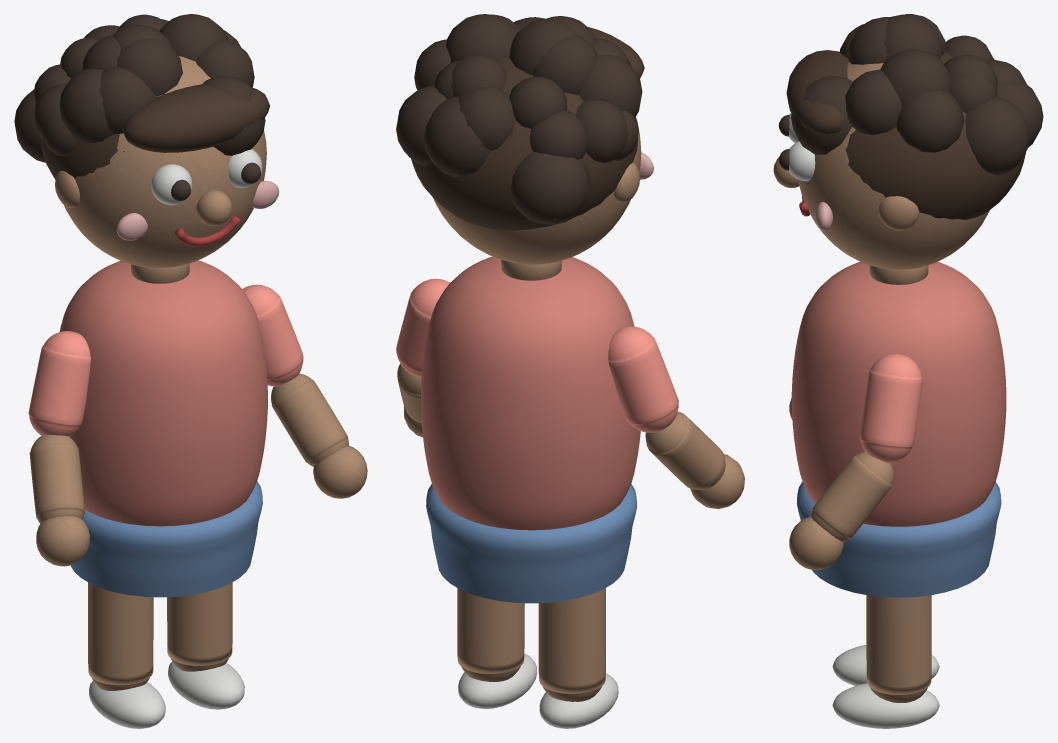
The model's file is kids.glb.
3 views of the same model, side by side, from view 1: azimuth 30°, elevation 25°; view 2: azimuth 150°, elevation 25°; view 3: azimuth 270°, elevation 25° (orthographic). The views are drawn at different scales.
Visible parts, largest first — view 1: torso, head_mesh, head_mesh.001, legL_mesh, legR_mesh, forearmR_mesh, forearmL_mesh, upperarmL, upperarmR, legR_mesh.001; view 2: torso, head_mesh, head_mesh.001, legL_mesh, legR_mesh, upperarmL, forearmL_mesh, upperarmR, forearmR_mesh; view 3: torso, head_mesh, head_mesh.001, legR_mesh, forearmR_mesh, upperarmR, legL_mesh, legR_mesh.001.
Boxes of the visible parts, x1=… form: torso: x1=59, y1=260, x2=267, y2=597; head_mesh: x1=14, y1=14, x2=279, y2=267; head_mesh.001: x1=40, y1=56, x2=276, y2=267; legL_mesh: x1=88, y1=582, x2=165, y2=728; legR_mesh: x1=167, y1=582, x2=244, y2=709; forearmR_mesh: x1=271, y1=373, x2=367, y2=498; forearmL_mesh: x1=29, y1=435, x2=89, y2=566; upperarmL: x1=28, y1=331, x2=90, y2=436; upperarmR: x1=242, y1=284, x2=303, y2=386; legR_mesh.001: x1=168, y1=663, x2=243, y2=708; torso: x1=421, y1=256, x2=640, y2=603; head_mesh: x1=396, y1=14, x2=653, y2=264; head_mesh.001: x1=411, y1=27, x2=652, y2=264; legL_mesh: x1=538, y1=588, x2=618, y2=728; legR_mesh: x1=457, y1=588, x2=537, y2=708; upperarmL: x1=608, y1=326, x2=678, y2=432; forearmL_mesh: x1=645, y1=411, x2=744, y2=508; upperarmR: x1=396, y1=278, x2=449, y2=377; forearmR_mesh: x1=397, y1=363, x2=422, y2=437; torso: x1=791, y1=261, x2=1006, y2=597; head_mesh: x1=773, y1=14, x2=1043, y2=269; head_mesh.001: x1=776, y1=50, x2=1025, y2=269; legR_mesh: x1=832, y1=595, x2=939, y2=728; forearmR_mesh: x1=789, y1=451, x2=893, y2=569; upperarmR: x1=860, y1=353, x2=922, y2=463; legL_mesh: x1=832, y1=595, x2=939, y2=685; legR_mesh.001: x1=834, y1=684, x2=938, y2=728.
Bounding box in the file's own units: 0.5732 × 1.15 × 0.4149.
